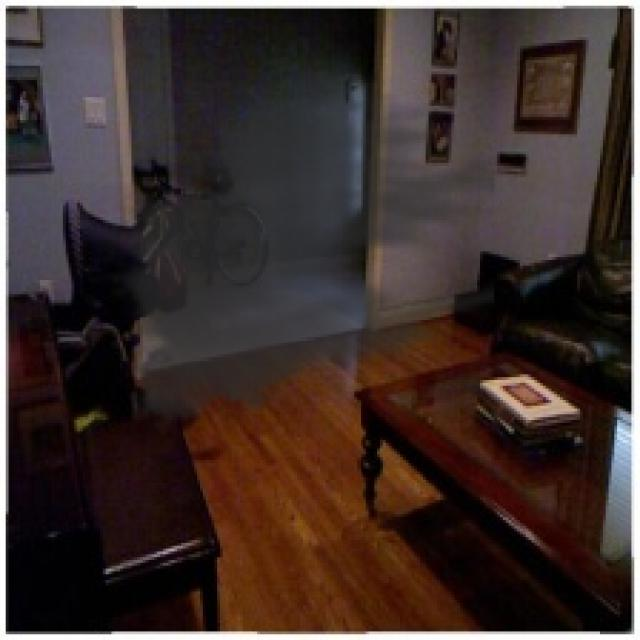smoke: (100, 57, 494, 440)
